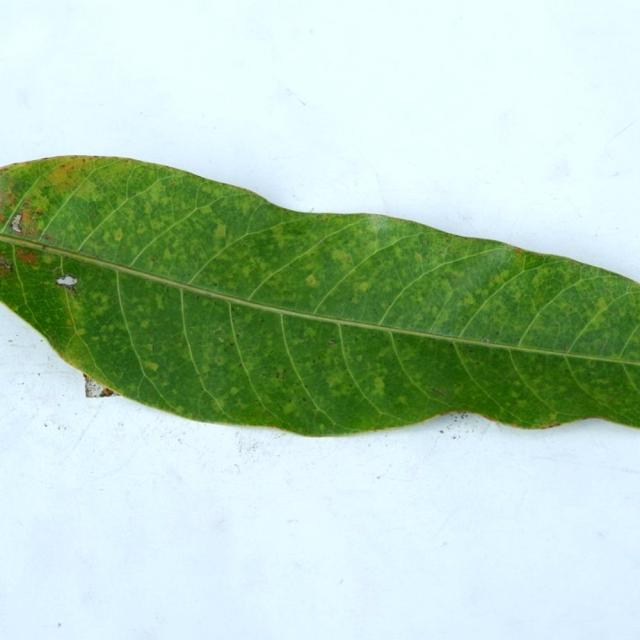Mango: (0, 157, 639, 435)
Powdery_Mildew: (43, 161, 87, 187), (14, 208, 39, 237), (22, 194, 50, 218), (432, 279, 455, 307), (145, 216, 167, 237), (15, 248, 40, 266), (325, 370, 347, 389), (297, 271, 321, 287), (332, 248, 351, 265), (91, 293, 109, 308), (212, 222, 227, 238), (461, 294, 477, 308), (355, 281, 372, 294), (211, 398, 226, 412), (282, 401, 298, 414), (372, 377, 386, 391), (154, 293, 166, 309), (212, 355, 227, 367), (595, 297, 608, 310), (240, 266, 253, 279), (199, 205, 214, 216), (163, 248, 175, 261), (113, 228, 123, 242), (145, 362, 159, 372), (432, 387, 447, 396), (139, 319, 150, 329), (397, 395, 408, 405), (547, 412, 558, 422), (223, 343, 234, 352), (513, 291, 522, 301), (414, 253, 424, 262), (514, 247, 523, 256), (229, 387, 239, 395), (316, 423, 325, 431), (76, 329, 86, 336), (355, 355, 363, 363), (214, 326, 223, 333), (217, 336, 225, 343), (66, 318, 73, 326), (327, 339, 335, 345), (421, 239, 428, 245), (170, 180, 176, 187), (481, 338, 489, 343), (564, 345, 570, 351), (275, 372, 280, 378), (234, 306, 239, 311), (228, 342, 233, 347), (60, 164, 66, 168), (569, 307, 573, 311)
